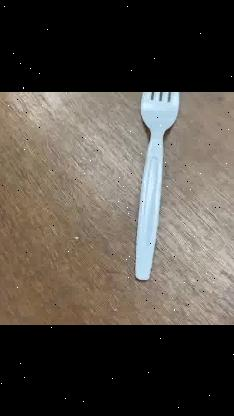Others: (132, 92, 178, 282)
